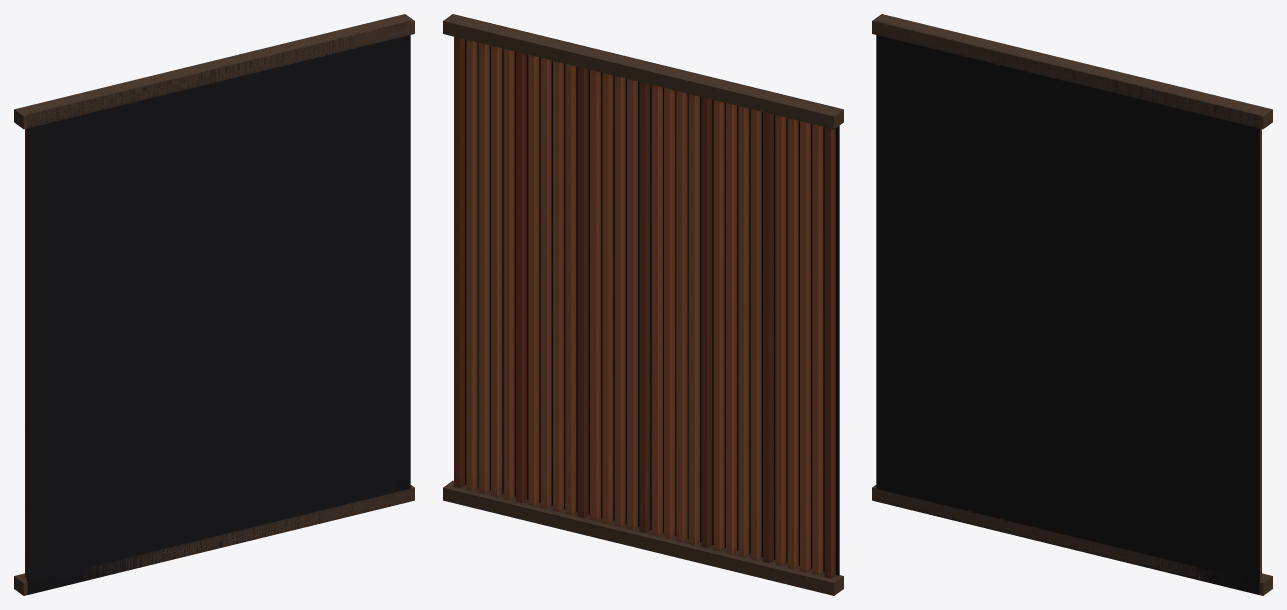
The model's file is atrium_bay_screen.glb.
3 renders of one model, left to right at view 1: azimuth 30°, elevation 25°; view 2: azimuth 150°, elevation 25°; view 3: azimuth 330°, elevation 25°, orthographic.
Visible parts, largest first — view 1: atrium_bay_screen; view 2: atrium_bay_screen; view 3: atrium_bay_screen.
Part boxes in pixels (box(x1,y1,x2,y2)): atrium_bay_screen: box(14, 14, 414, 595); atrium_bay_screen: box(443, 14, 843, 595); atrium_bay_screen: box(872, 14, 1272, 595).
Bounding box in the file's own units: 2.82 × 3.3 × 0.1201.
1 material, 1 textured.
